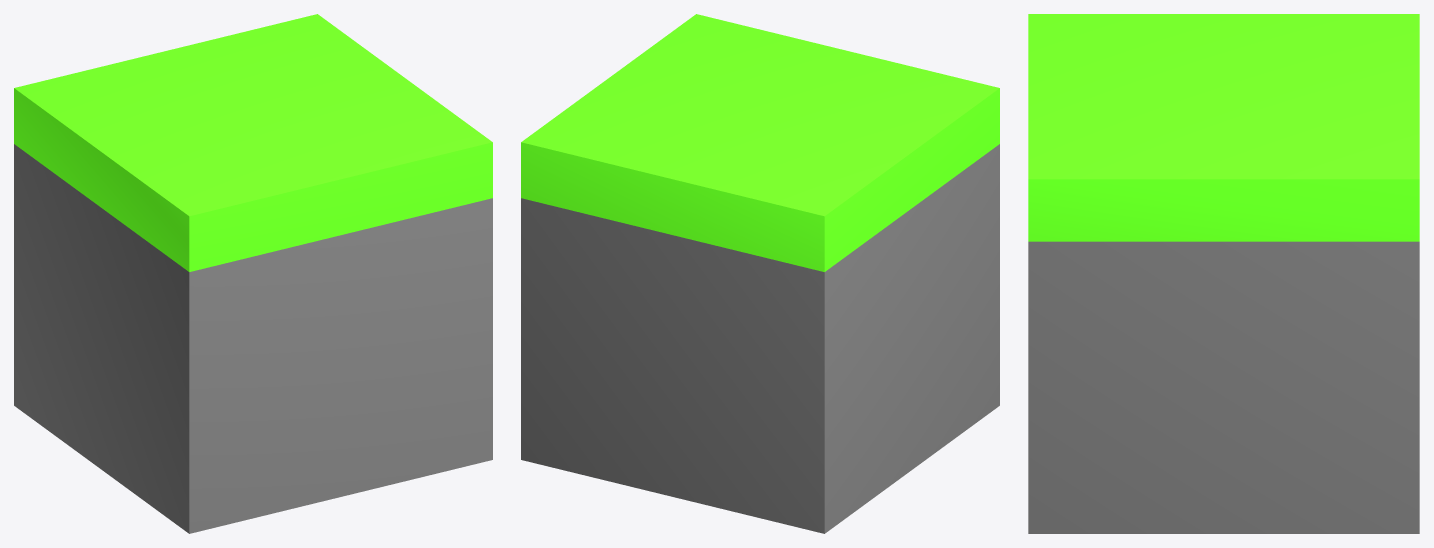
Rendered from Cube_2_Blendshape.fbx.
The picture shows the model from 3 angles, left to right: view 1: azimuth 30°, elevation 25°; view 2: azimuth 150°, elevation 25°; view 3: azimuth 270°, elevation 25°; orthographic projection. The views are drawn at different scales.
Visible parts, largest first — view 1: Cube_2; view 2: Cube_2; view 3: Cube_2.
Part boxes in pixels (x1,y1,x2,y2): Cube_2: (14,14,492,533); Cube_2: (521,14,999,533); Cube_2: (1028,14,1419,533).
Size of the model in its own units: 100 by 100 by 100.
